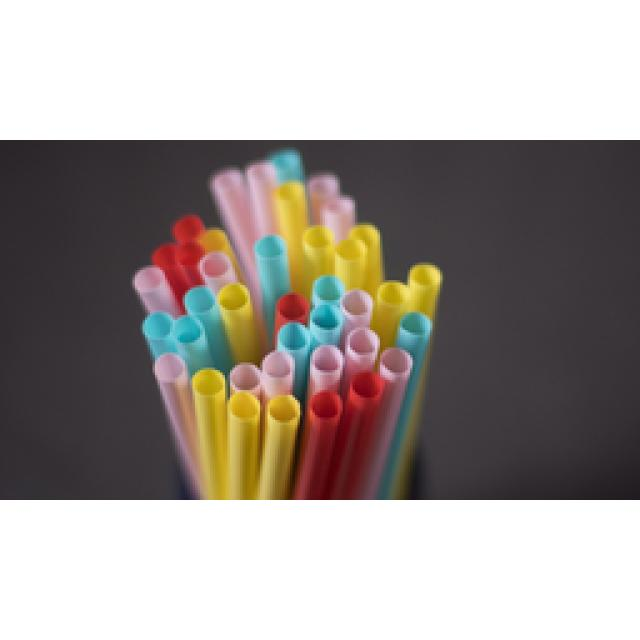plastic: (130, 148, 442, 498)
